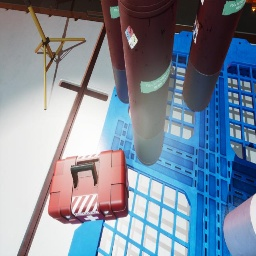0: (223, 193, 256, 256)
FirstAidBox ,: (48, 150, 129, 224)
NitrogenTank ,: (118, 0, 178, 166), (183, 0, 246, 112), (100, 0, 130, 104)
